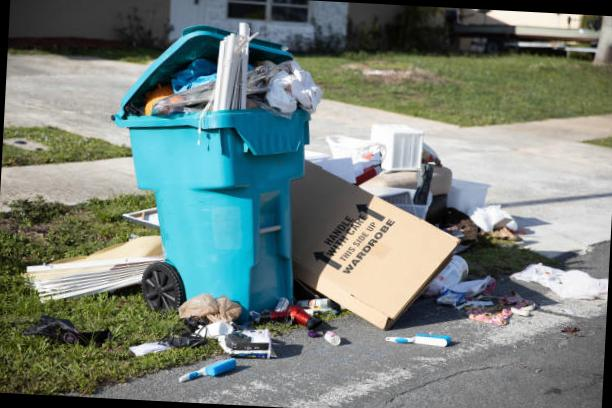trash: (279, 132, 549, 336), (144, 25, 330, 133), (17, 224, 178, 313), (123, 316, 284, 372), (507, 228, 601, 304), (162, 283, 248, 338), (25, 310, 121, 352), (273, 290, 341, 342), (172, 352, 242, 388), (371, 327, 452, 355), (118, 200, 177, 230), (314, 327, 346, 347)
trash_can_overflow: (70, 8, 434, 340)
